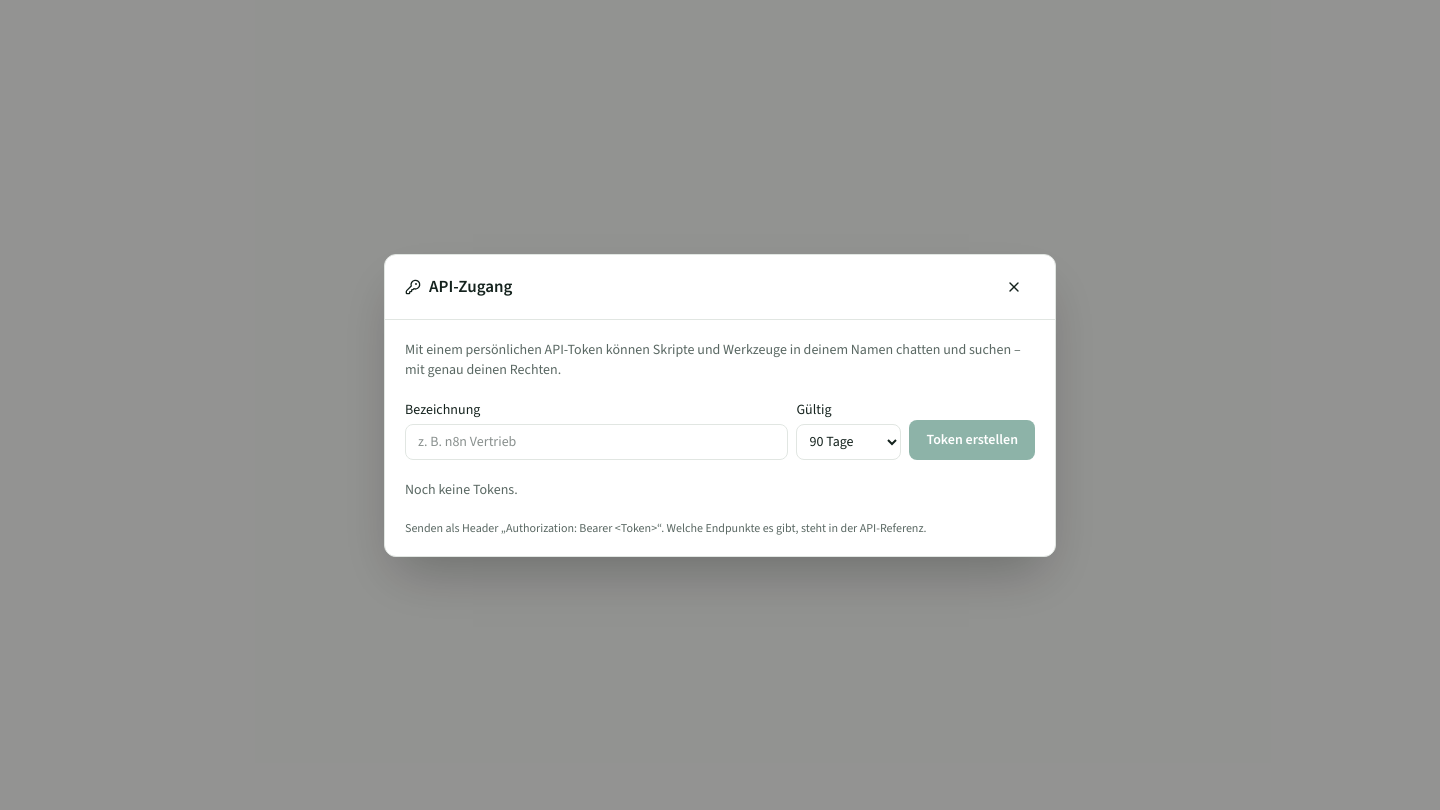
Test: creates a token, shows it once and lists it
expect the text "Noch keine Tokens." is shown: met, box [405,480,518,498]
In the field labelled "Bezeichnung": [597, 442] box [405,424,788,460], type "n8n Vertrieb"
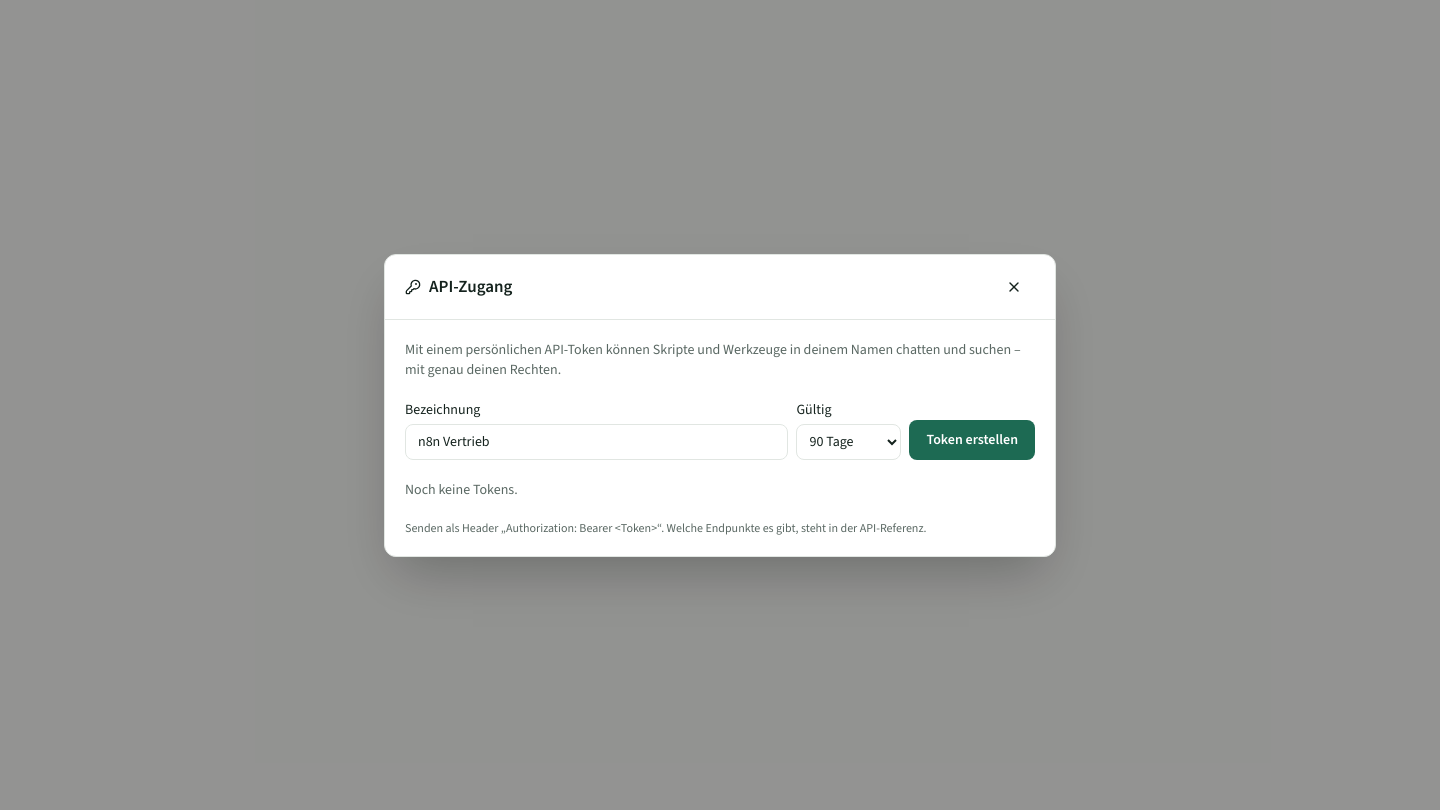
Select "unbegrenzt" in the dropdown labelled "Gültig": [849, 442] box [796,424,902,460]
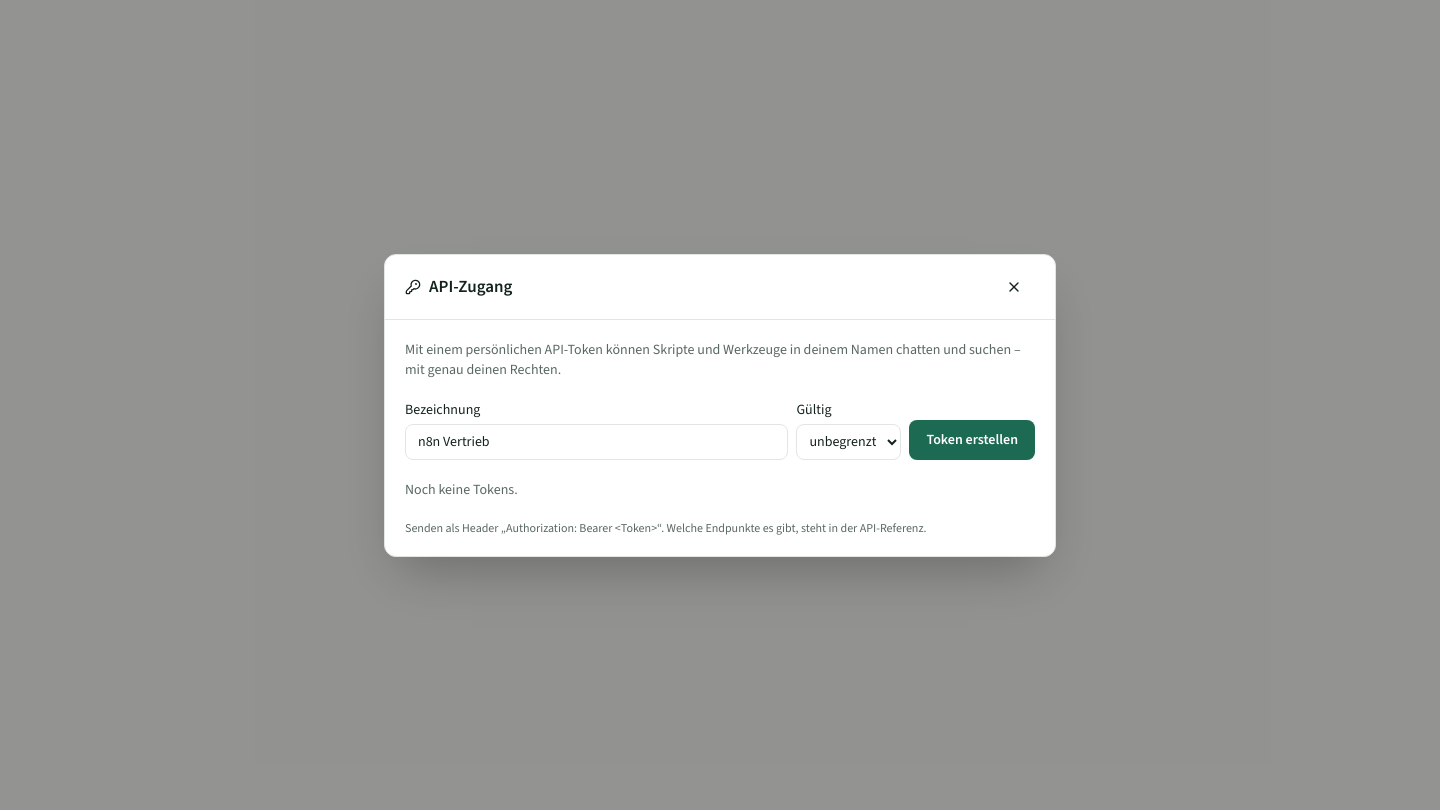
Click the button "Token erstellen": [972, 440] box [910,420,1035,460]
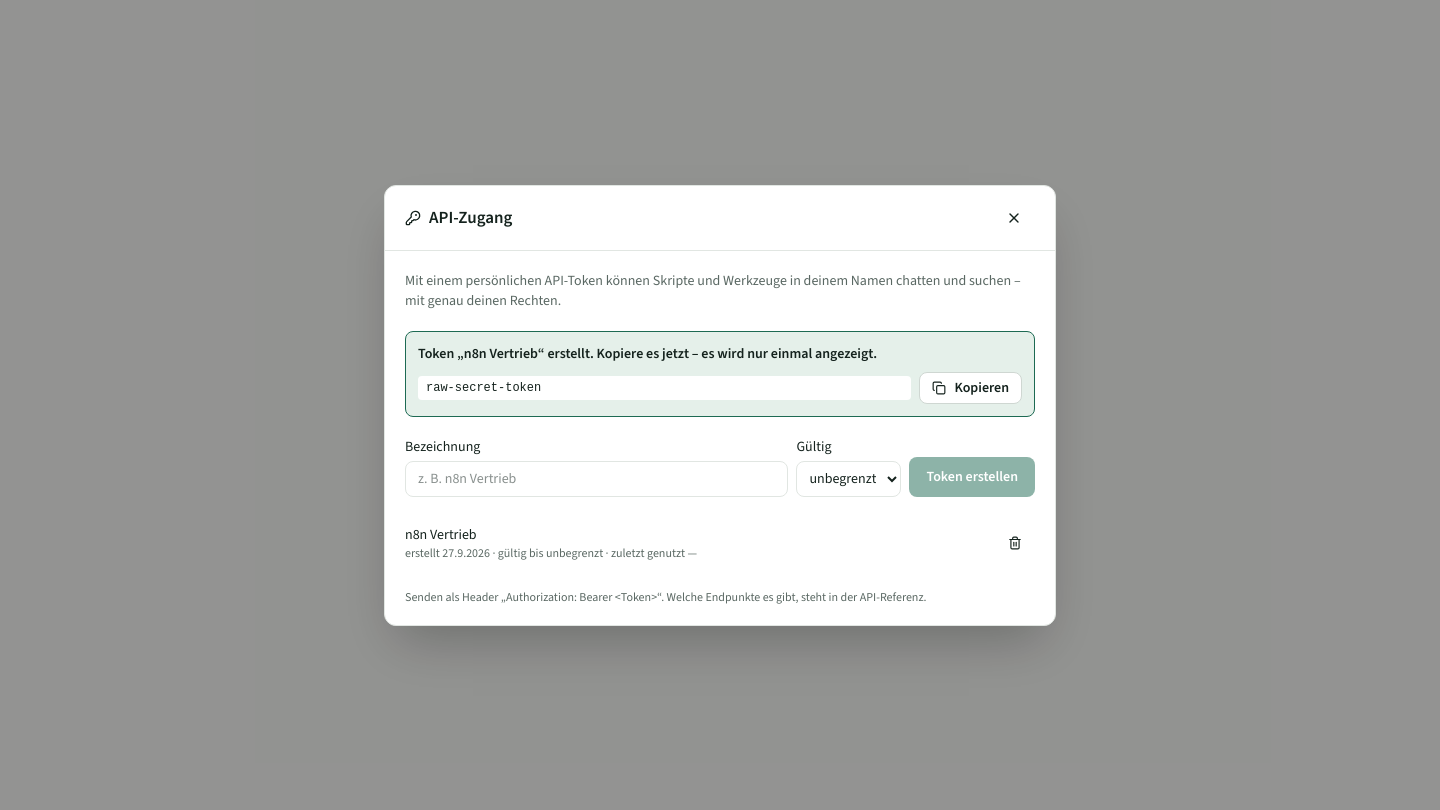
expect the text "raw-secret-token" is shown: met, box [418,376,911,400]
expect the list named "Deine Tokens" shows "n8n Vertrieb": met, box [405,524,477,544]
